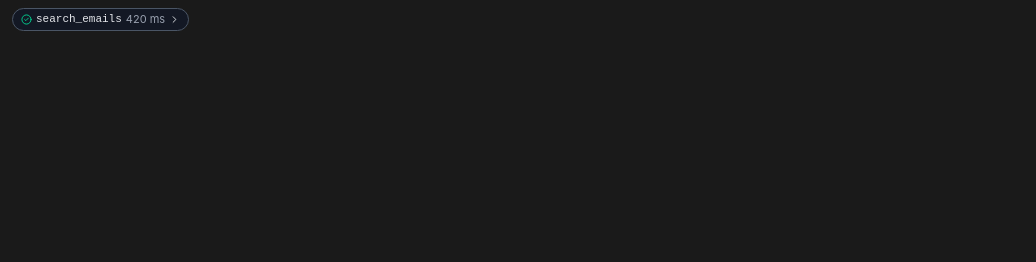
ToolCallInspector › marks truncated args and results
Click the button "search_emails 420 ms" at (101, 19), box [12,8,189,30]
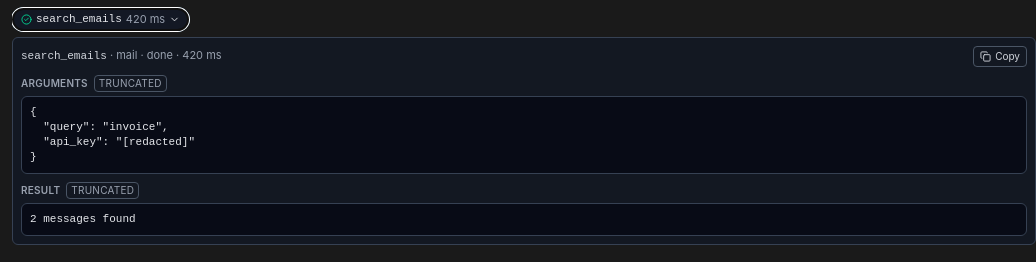
Expected: the text "truncated" is shown 2 times, [94,74,167,92]; [66,182,139,199]
